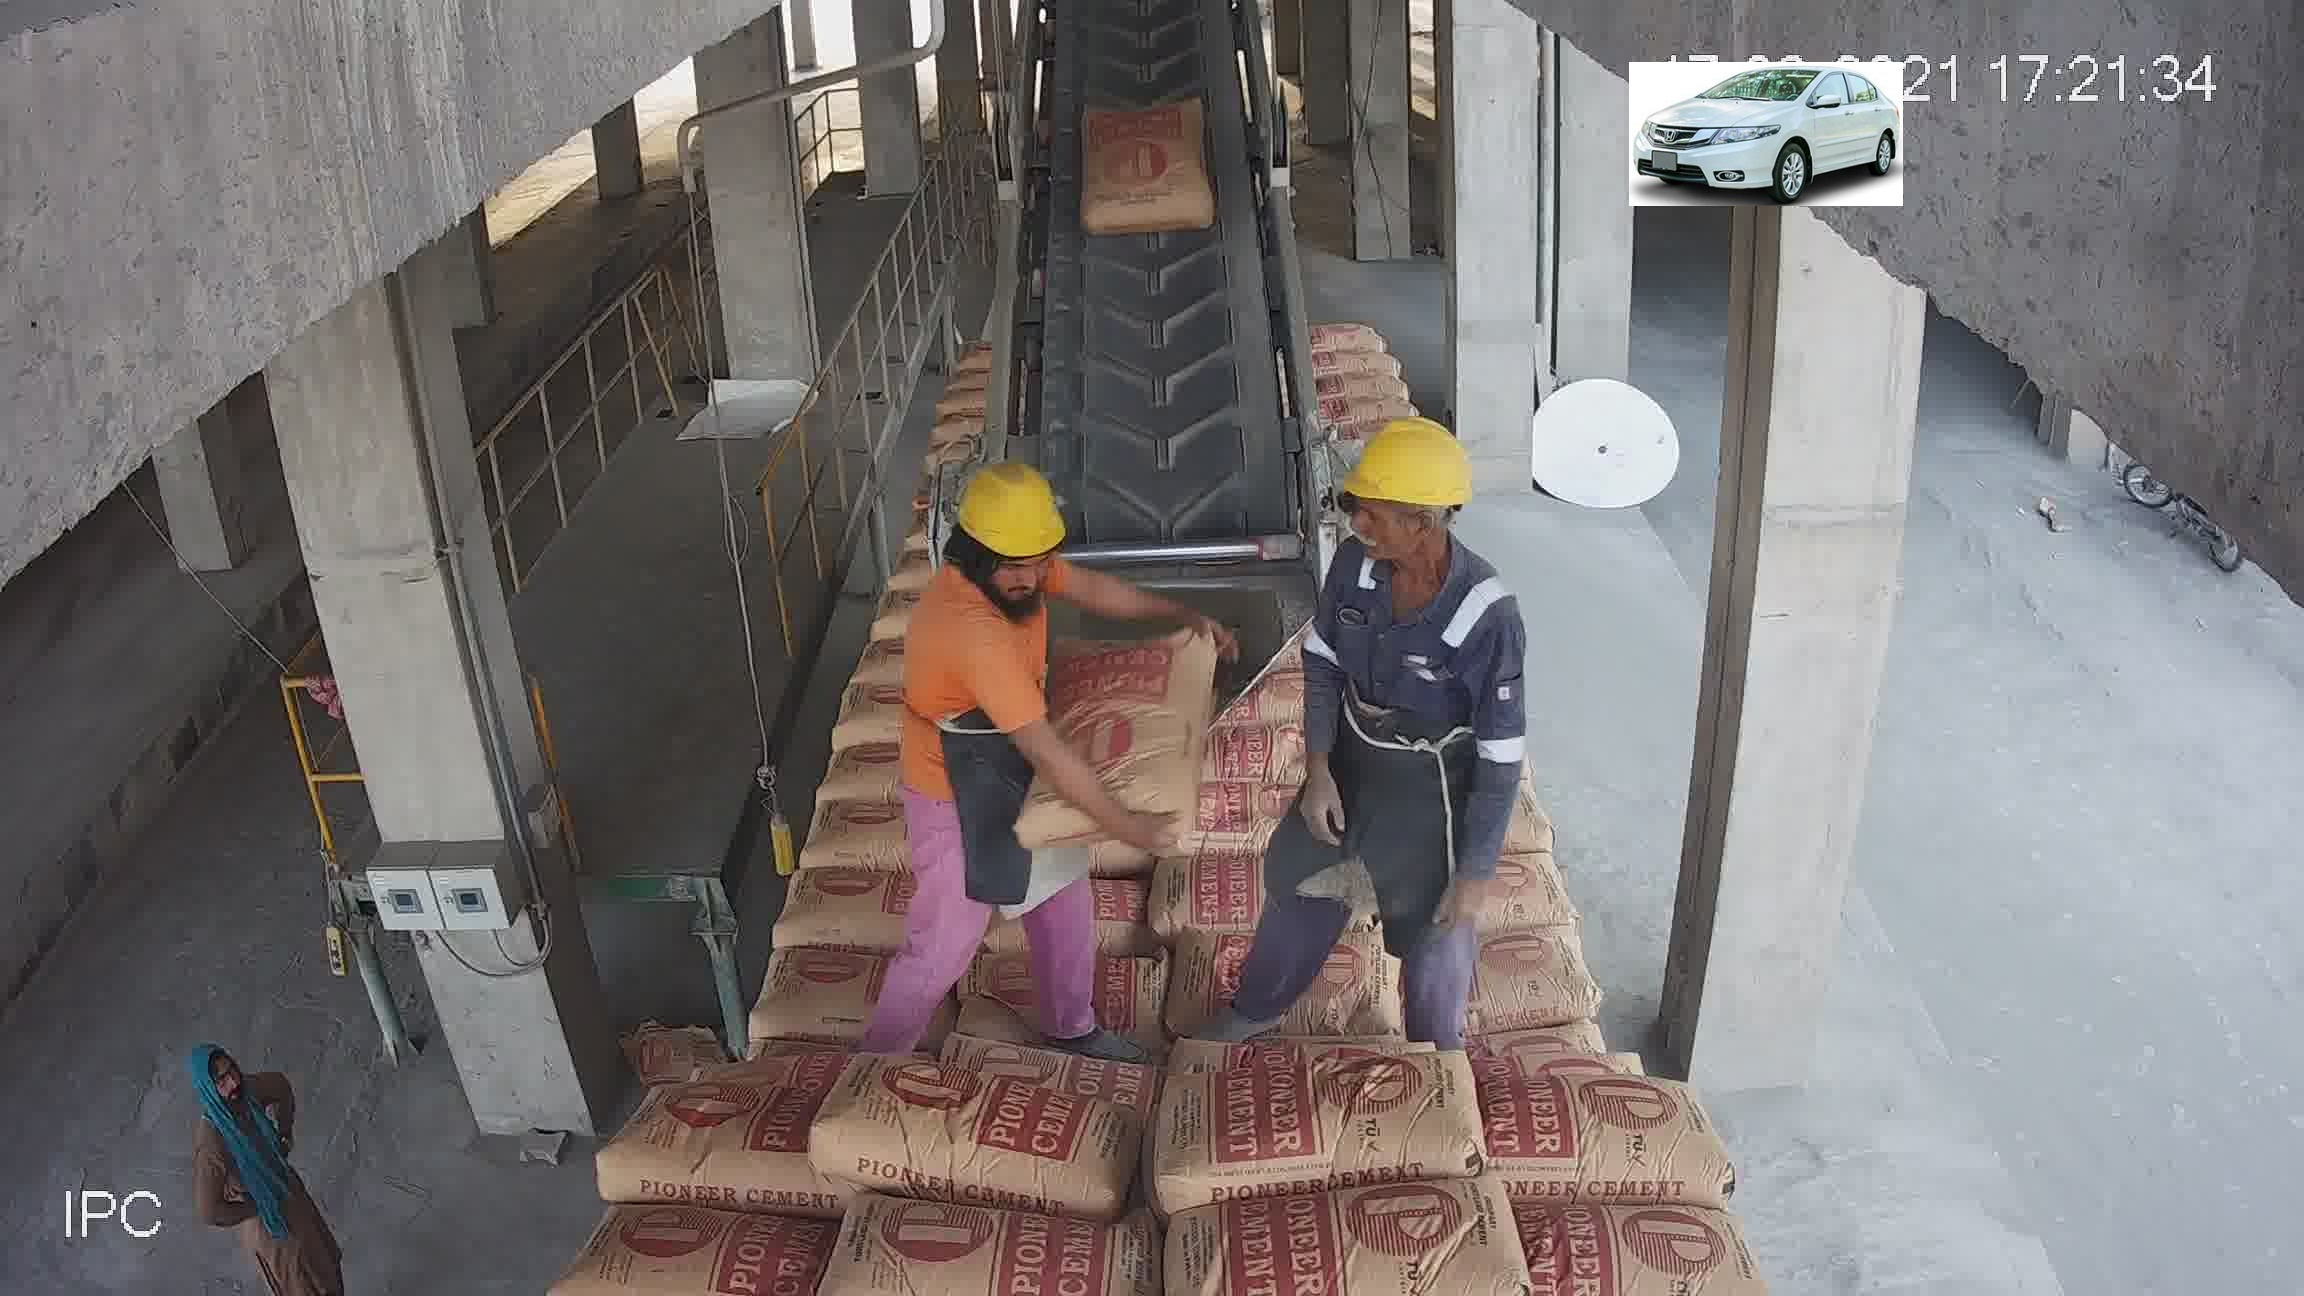bag_h: (1133, 1052, 1521, 1195), (1127, 921, 1461, 1078), (1112, 805, 1427, 968), (801, 1052, 1149, 1190), (1112, 1174, 1521, 1279), (842, 938, 1157, 1073), (810, 1187, 1130, 1296), (635, 951, 869, 1097), (880, 836, 1154, 957), (1423, 945, 1693, 1067), (1136, 714, 1407, 832), (1473, 1079, 1742, 1190), (582, 1079, 809, 1203), (1380, 756, 1598, 872), (1429, 840, 1652, 949), (892, 756, 1152, 845), (557, 1209, 828, 1290), (673, 853, 880, 957), (1499, 1204, 1775, 1280), (718, 772, 888, 873), (1016, 668, 1185, 723), (1027, 574, 1176, 635), (1199, 505, 1318, 579), (1404, 647, 1510, 725), (994, 720, 1196, 760), (891, 530, 1032, 585), (896, 492, 1044, 544), (1011, 623, 1184, 666), (1393, 715, 1525, 769), (1154, 620, 1274, 673), (1177, 559, 1287, 614), (904, 465, 1014, 514), (1029, 548, 1169, 585), (913, 427, 1022, 468)
belt: (1017, 0, 1293, 492)
